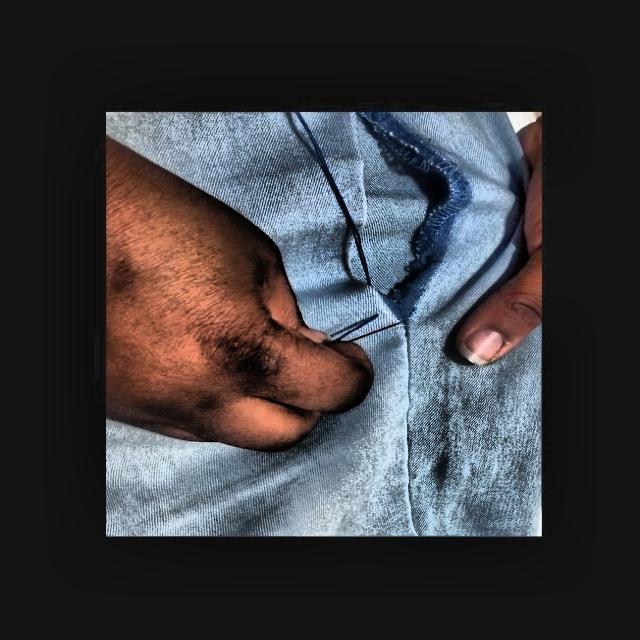seam: (301, 110, 486, 303)
